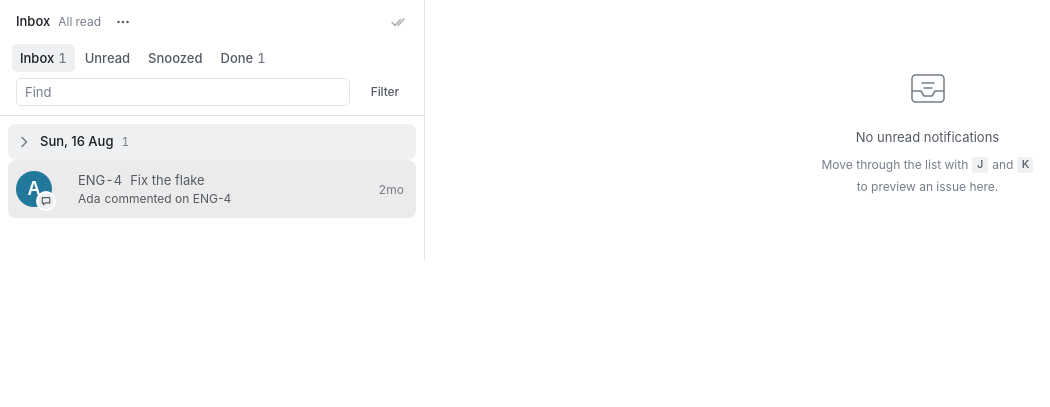
Test: the empty inbox › distinguishes an empty tab from an empty inbox, and offers the tab that has the rest
Click the tab "Unread". click: (107,58)
box: [77,44,138,72]
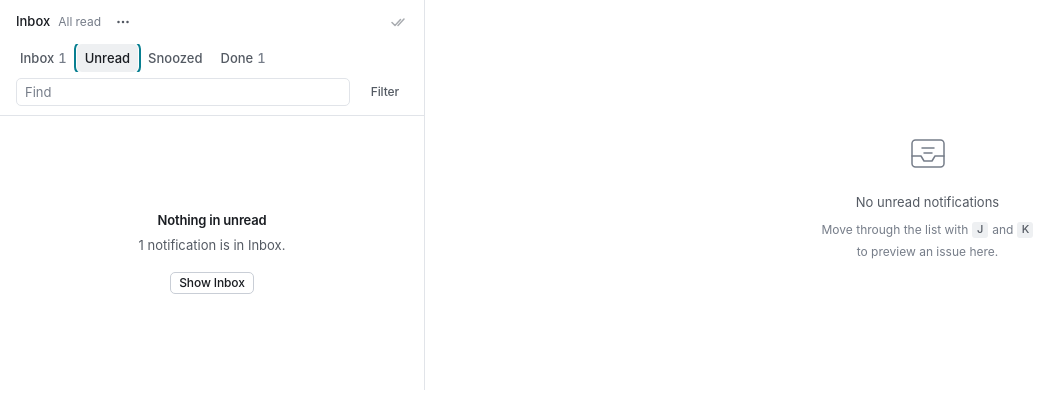
Now the text "Nothing in unread" is shown, box [158,212,266,228]
Click the button "Show Inbox". click: (212,283)
box: [170,272,254,294]
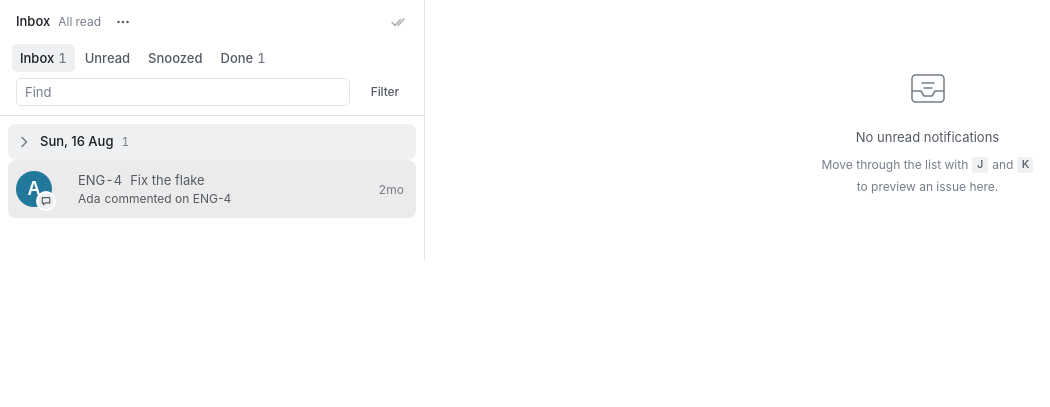
Now the text "commented on ENG-4" is shown, box [104,191,231,206]
